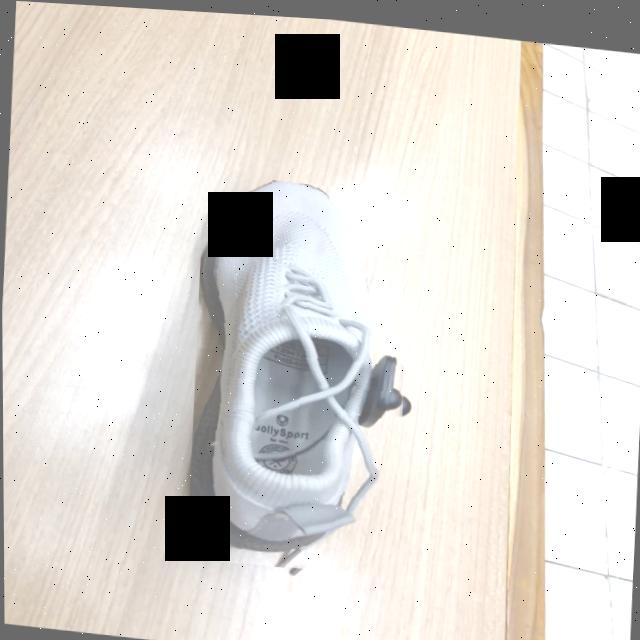shoe: (188, 178, 404, 565)
